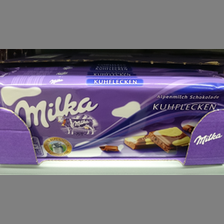chocolate: (1, 76, 224, 161)
